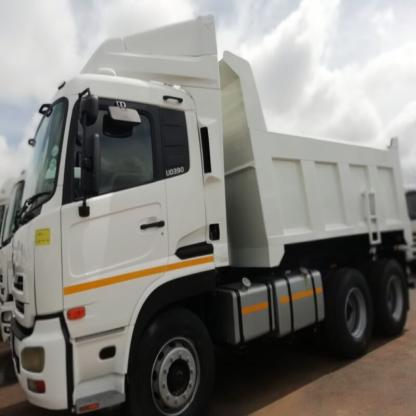dump_truck: (13, 10, 416, 386)
